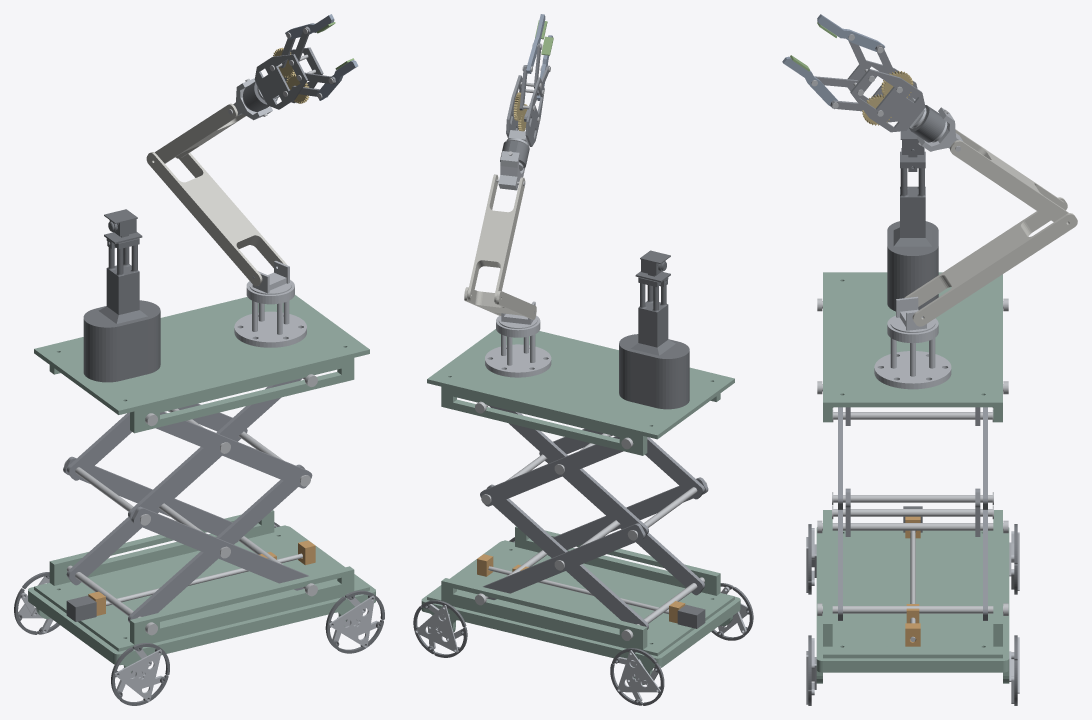
The model's file is robot.glb.
3 renders of one model, left to right at view 1: azimuth 30°, elevation 25°; view 2: azimuth 150°, elevation 25°; view 3: azimuth 270°, elevation 25°, orthographic. The views are drawn at different scales.
Visible parts, largest first — view 1: inst_007, inst_006, inst_013, inst_053, inst_015, inst_051, inst_014, inst_052, inst_054, inst_012, inst_016, inst_080 (+8 smaller); view 2: inst_007, inst_006, inst_013, inst_053, inst_051, inst_014, inst_052, inst_016, inst_054, inst_012, inst_015, inst_031 (+8 smaller); view 3: inst_006, inst_007, inst_015, inst_013, inst_014, inst_012, inst_016, inst_081, inst_004, inst_002, inst_008, inst_010 (+12 smaller).
Boxes of the visible parts, x1,y1,x2,y2 form: inst_007: [34, 295, 369, 433]; inst_006: [34, 510, 369, 651]; inst_013: [83, 238, 160, 382]; inst_053: [63, 456, 308, 590]; inst_015: [146, 152, 286, 286]; inst_051: [66, 429, 304, 622]; inst_014: [28, 526, 375, 672]; inst_052: [66, 378, 302, 525]; inst_054: [156, 403, 312, 488]; inst_012: [234, 280, 306, 347]; inst_016: [155, 103, 245, 163]; inst_080: [254, 54, 307, 109]; inst_007: [427, 329, 734, 455]; inst_006: [427, 526, 734, 656]; inst_013: [619, 277, 689, 409]; inst_053: [483, 477, 708, 599]; inst_051: [486, 452, 704, 629]; inst_014: [421, 541, 740, 684]; inst_052: [489, 405, 704, 540]; inst_016: [467, 174, 525, 303]; inst_054: [480, 428, 623, 506]; inst_012: [485, 315, 551, 377]; inst_015: [464, 287, 536, 319]; inst_031: [617, 650, 660, 692]; inst_006: [823, 510, 1002, 658]; inst_007: [823, 272, 1002, 422]; inst_015: [904, 197, 1077, 326]; inst_013: [887, 151, 938, 311]; inst_014: [816, 527, 1009, 683]; inst_012: [874, 315, 951, 389]; inst_016: [950, 129, 1068, 223]; inst_081: [850, 68, 925, 132]; inst_004: [817, 520, 1008, 533]; inst_002: [817, 603, 1008, 615]; inst_008: [832, 506, 993, 519]; inst_010: [832, 492, 993, 505].
Bounding box in the file's own units: 0.5204 × 1.16 × 0.4606.
